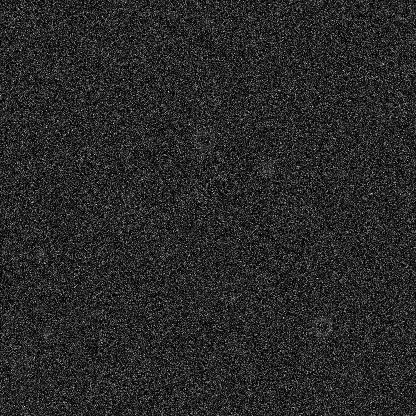Ring: (191, 127, 215, 151), (69, 287, 93, 311), (309, 314, 333, 338), (8, 356, 32, 380)
Spot: (212, 278, 228, 294), (38, 325, 54, 341), (198, 13, 214, 29), (86, 304, 102, 320), (259, 159, 275, 175), (32, 247, 48, 263), (120, 188, 136, 204)
